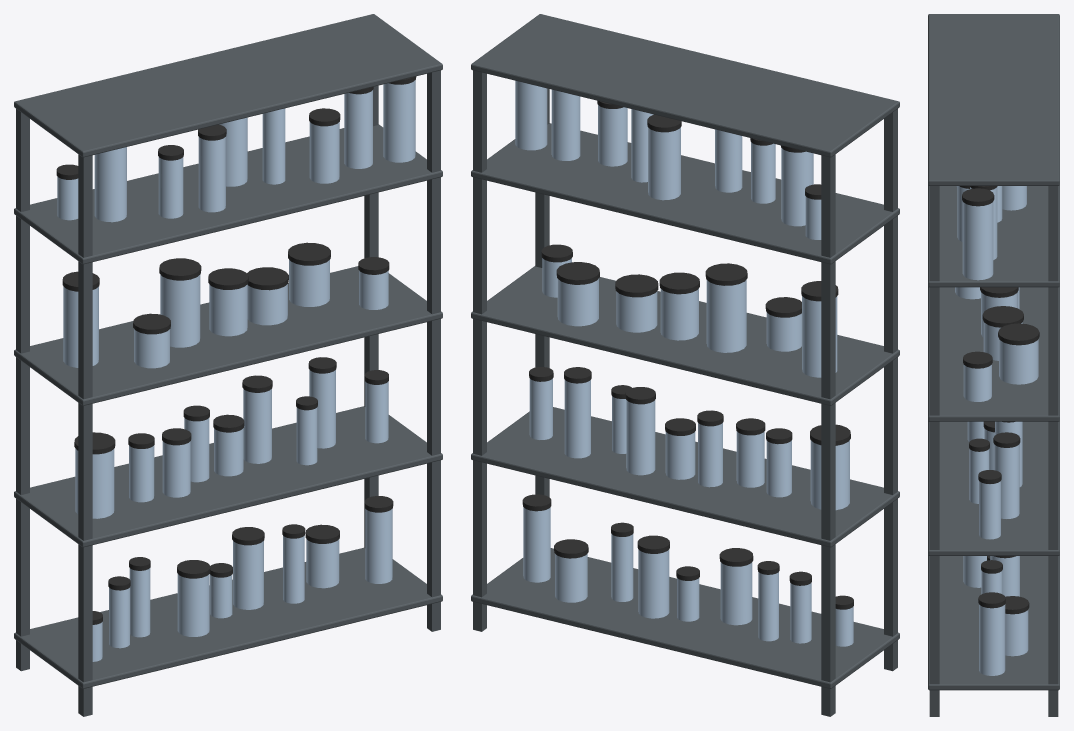
File: lab_shelf.glb
The picture shows the model from 3 angles, left to right: view 1: azimuth 30°, elevation 25°; view 2: azimuth 150°, elevation 25°; view 3: azimuth 270°, elevation 25°; orthographic projection. The views are drawn at different scales.
Parts seen in each view (by area): view 1: lab_shelf; view 2: lab_shelf; view 3: lab_shelf.
Boxes of the visible parts, <box> form: lab_shelf: <box>14,14,442,716</box>; lab_shelf: <box>471,14,899,716</box>; lab_shelf: <box>928,14,1059,716</box>.
Size of the model in its own units: 1.2 by 1.8 by 0.4.
